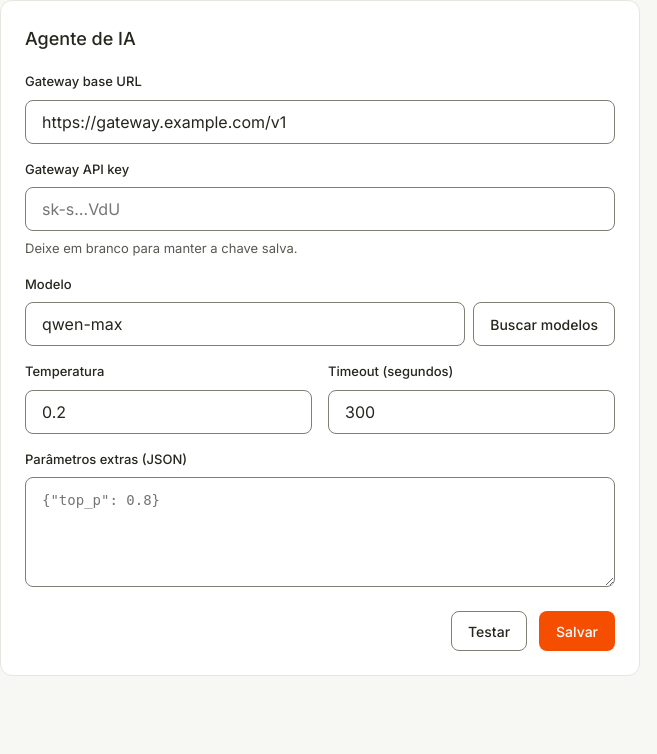
AiSettingsForm: Testar › a apiKey digitada vai no corpo
Type "sk-nova" into the password field labelled "Gateway API key" at x=320, y=209, box [25,187,615,231]
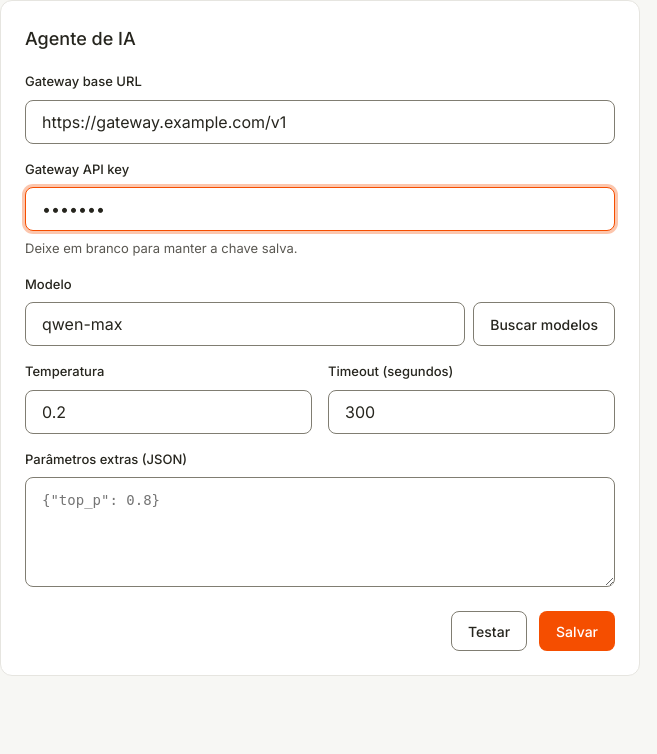
Click the button "Testar" at x=489, y=631, box [451,611,527,651]
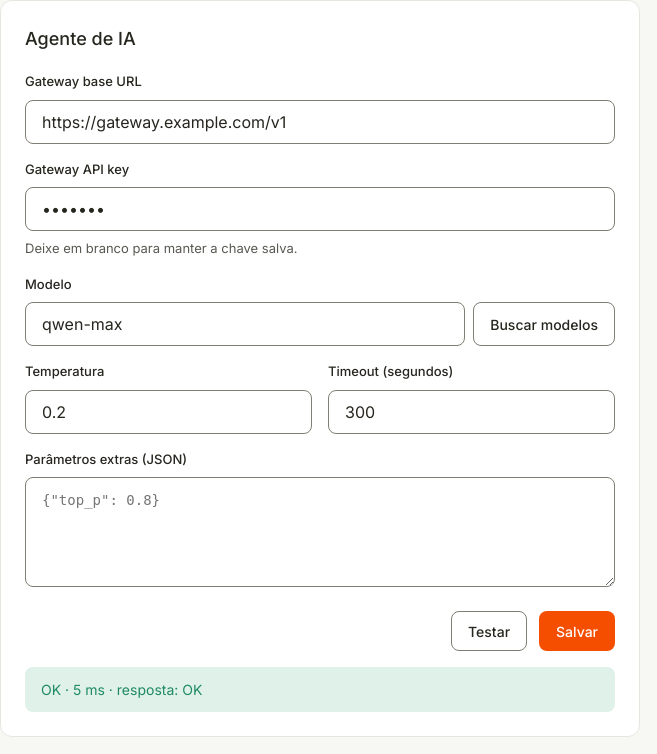
expect the text "OK · 5 ms · resposta: OK" is shown: met, box [25,667,615,712]
